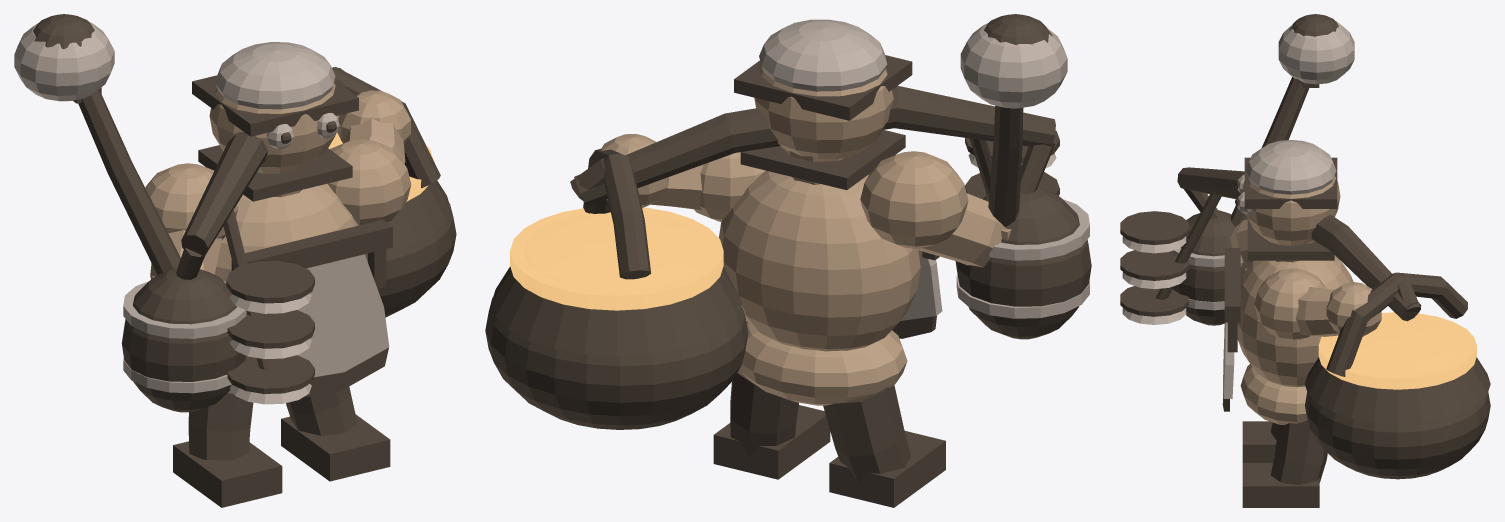
File: cook_chibi.glb
The picture shows the model from 3 angles, left to right: view 1: azimuth 30°, elevation 25°; view 2: azimuth 150°, elevation 25°; view 3: azimuth 270°, elevation 25°; orthographic projection. The views are drawn at different scales.
Parts seen in each view (by area): view 1: cook_chibi_dark, cook_chibi_bone, cook_chibi_body; view 2: cook_chibi_dark, cook_chibi_body, cook_chibi_bone, cook_chibi_glow; view 3: cook_chibi_dark, cook_chibi_body, cook_chibi_bone, cook_chibi_glow.
Boxes of the visible parts, box(x1,y1,x2,y2) form: cook_chibi_dark: box(33, 14, 456, 507); cook_chibi_bone: box(14, 22, 389, 404); cook_chibi_body: box(145, 83, 411, 393); cook_chibi_dark: box(485, 14, 1091, 507); cook_chibi_body: box(601, 63, 1011, 405); cook_chibi_bone: box(759, 19, 1089, 320); cook_chibi_glow: box(510, 207, 723, 310); cook_chibi_dark: box(1120, 14, 1490, 507); cook_chibi_body: box(1230, 175, 1381, 424); cook_chibi_bone: box(1122, 21, 1354, 399); cook_chibi_glow: box(1318, 312, 1476, 389).
Bounding box in the file's own units: 2.1 × 2.05 × 1.8.
